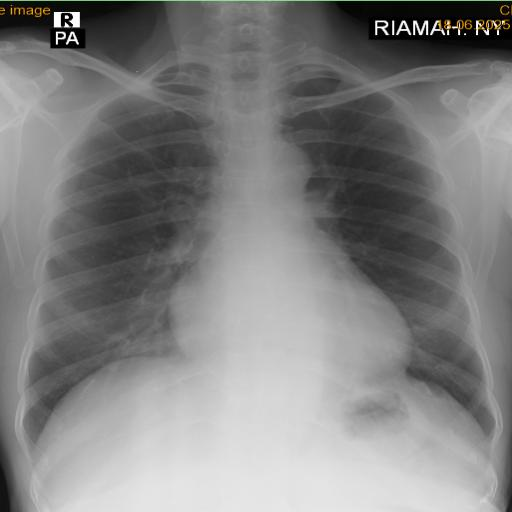kardiomegali: (8, 42, 508, 458)
